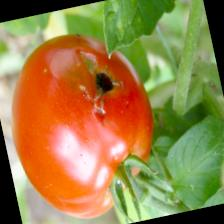tomato: (0, 18, 169, 224)
